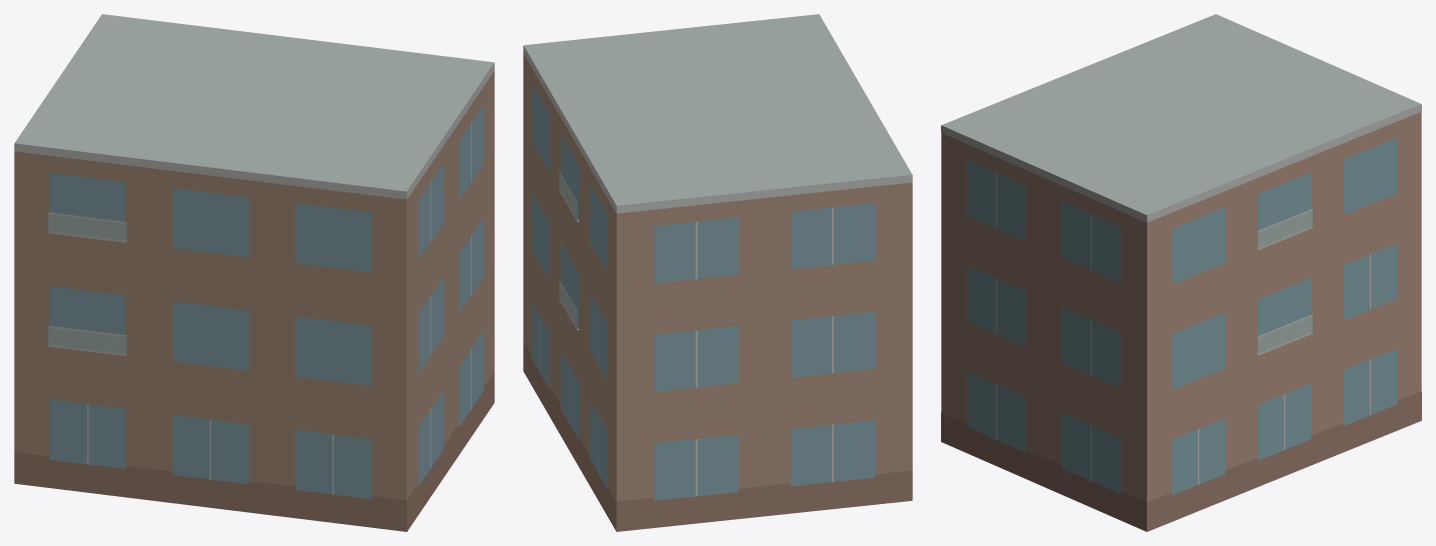
The model's file is survey-upis-32660609.glb.
3 views of the same model, side by side, from view 1: azimuth 30°, elevation 25°; view 2: azimuth 150°, elevation 25°; view 3: azimuth 270°, elevation 25° (orthographic). The views are drawn at different scales.
Visible parts, largest first — view 1: survey-upis-32660609.tmp; view 2: survey-upis-32660609.tmp; view 3: survey-upis-32660609.tmp.
Boxes of the visible parts, left/top/right/bottom form: survey-upis-32660609.tmp: left=14, top=14, right=494, bottom=531; survey-upis-32660609.tmp: left=523, top=14, right=912, bottom=531; survey-upis-32660609.tmp: left=941, top=14, right=1421, bottom=531.
Size of the model in its own units: 14.06 by 10.31 by 14.19.
